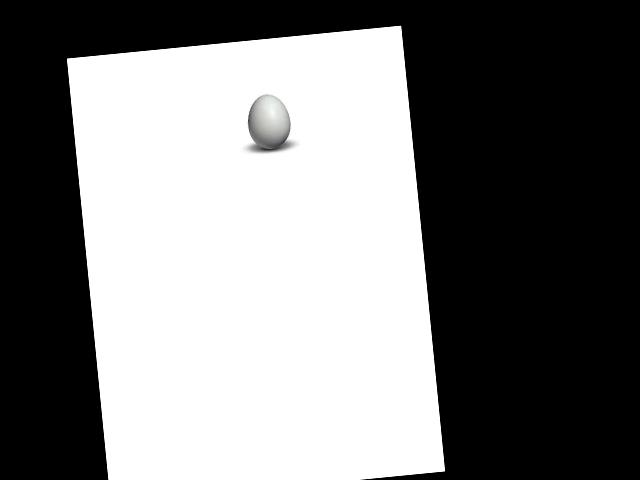egg: (246, 91, 292, 150)
